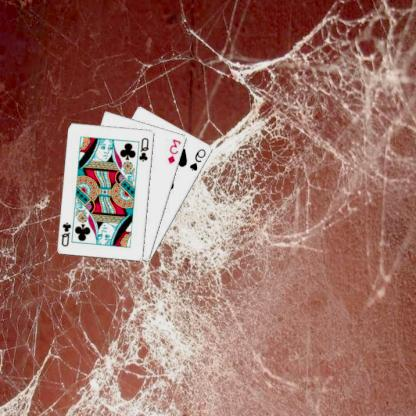3D: (168, 137, 184, 165)
9S: (189, 146, 209, 172)
QC: (138, 134, 152, 162), (61, 219, 74, 247)
